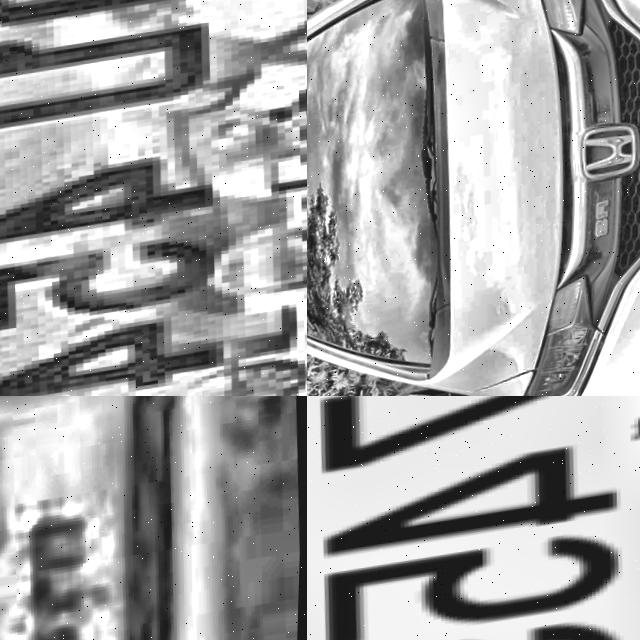license-plate: (0, 0, 307, 396), (307, 396, 640, 640), (0, 396, 209, 640)
